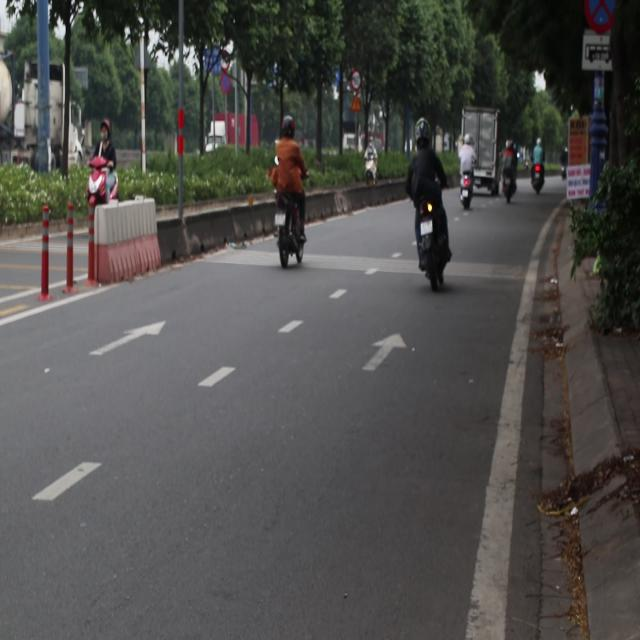motorbike: (261, 184, 313, 267), (85, 154, 121, 229), (419, 209, 449, 264), (365, 152, 386, 197), (498, 159, 516, 208), (525, 156, 545, 199), (461, 173, 475, 211)
truck: (0, 61, 88, 196), (205, 105, 264, 177), (454, 94, 501, 183)
